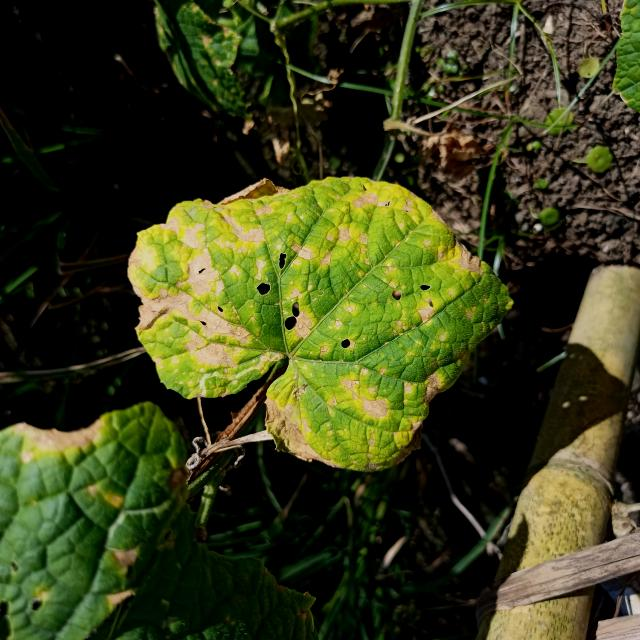disease_cucumber: (133, 180, 500, 469)
